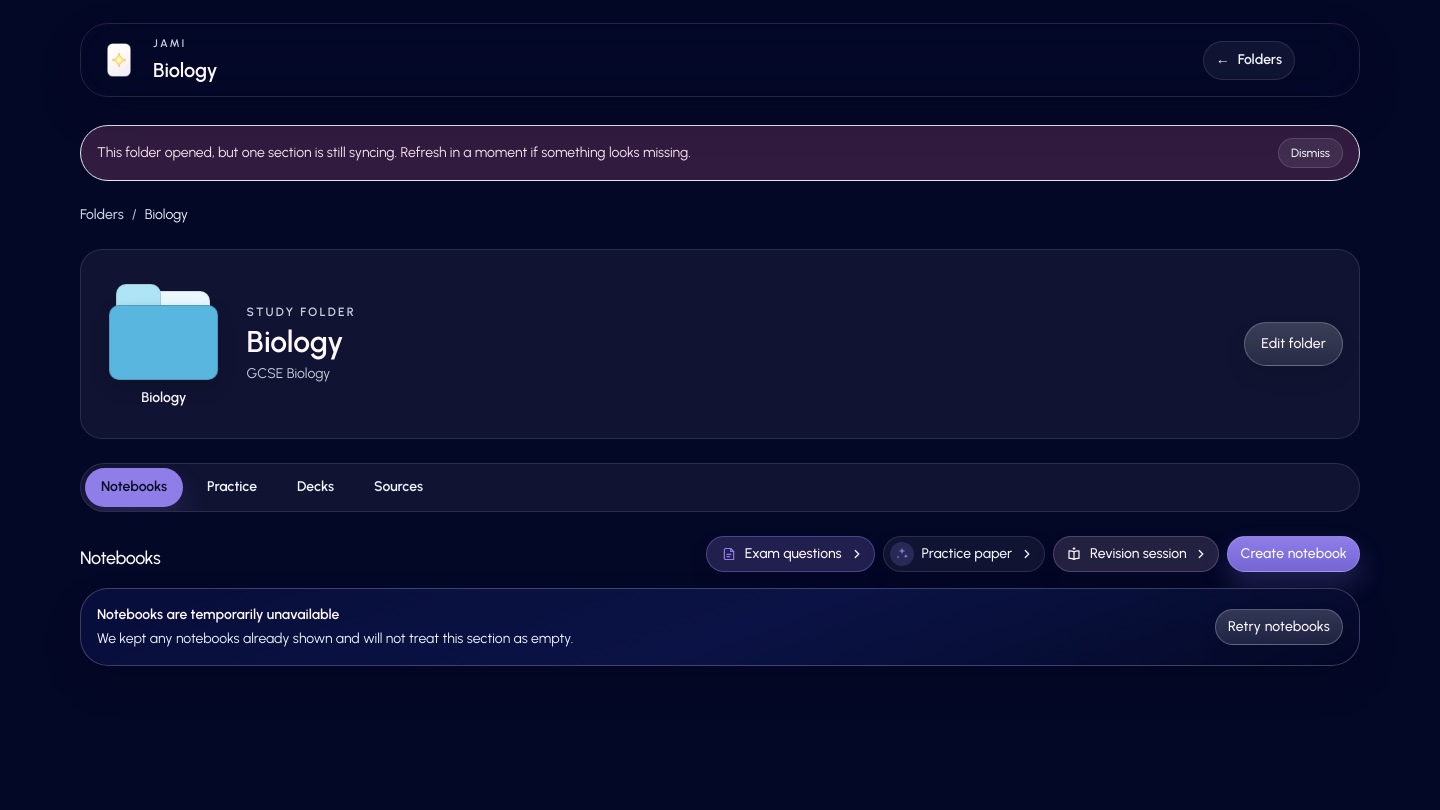
Test: a study folder › keeps the folder open when only its notebooks fail, and retries them
The width and height of the screenshot is (1440, 810).
Click the button "Retry notebooks".
click(1279, 627)  # box left=1215, top=609, right=1343, bottom=645
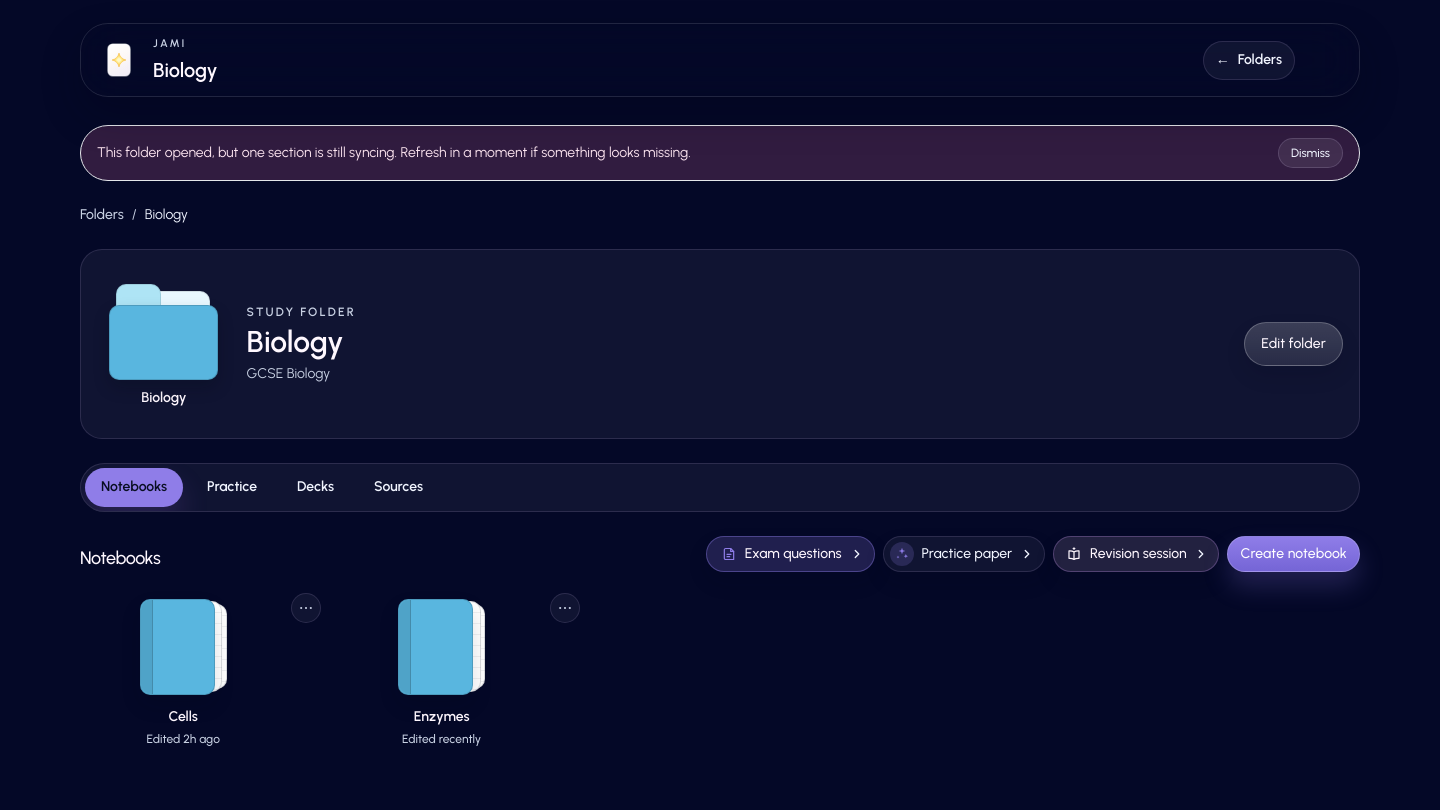
Expected: the text "Notebooks are temporarily unavailable" is gone
Expected: the text "Enzymes" is shown, left=414, top=708, right=470, bottom=725
